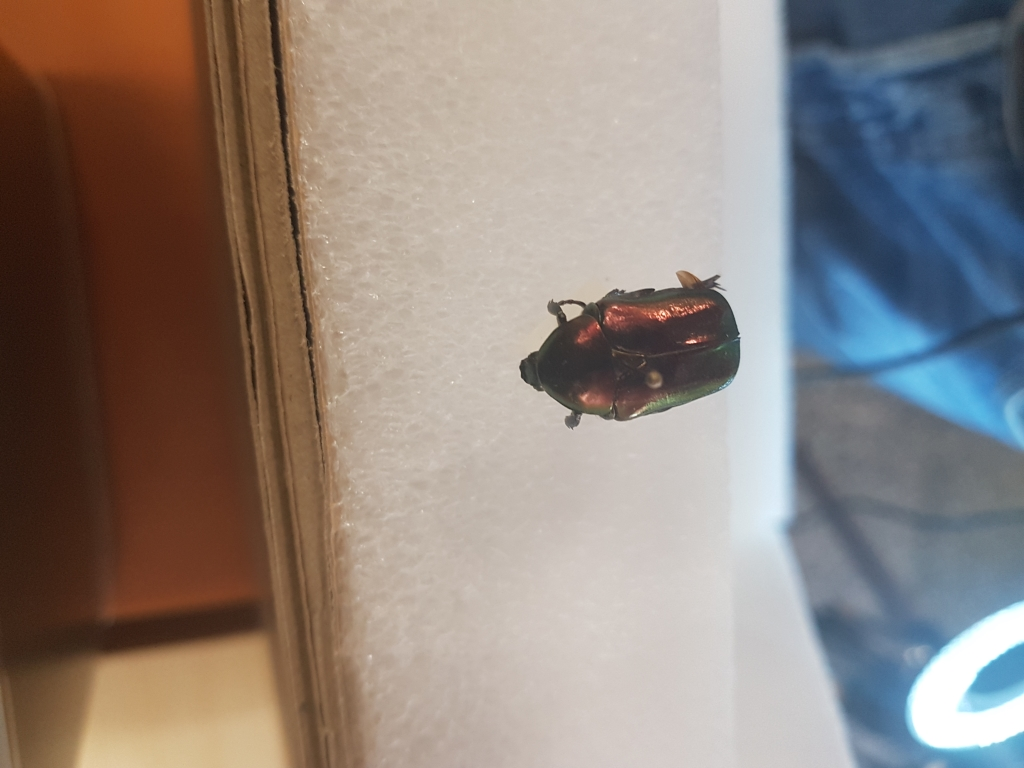Protaetia_cuprea_ignicollis: (506, 266, 762, 428)
